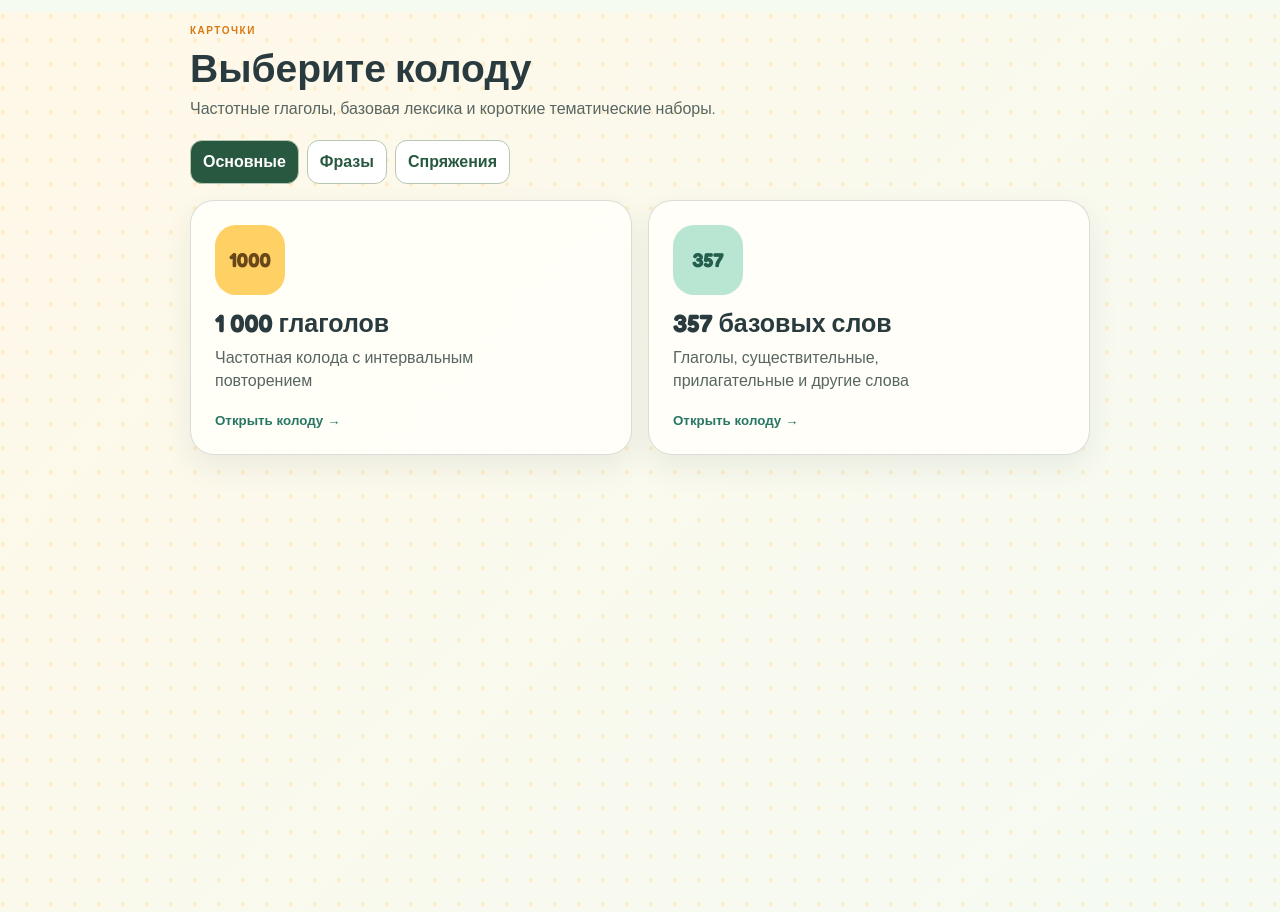
Test case: Cards server cache and local session › drops a rejected review when the write itself reports lost access
The image size is (1280, 912).
Click the button with aria-label "Открыть колоду «1 000 глаголов»": click(250, 260) [190, 200, 632, 455]
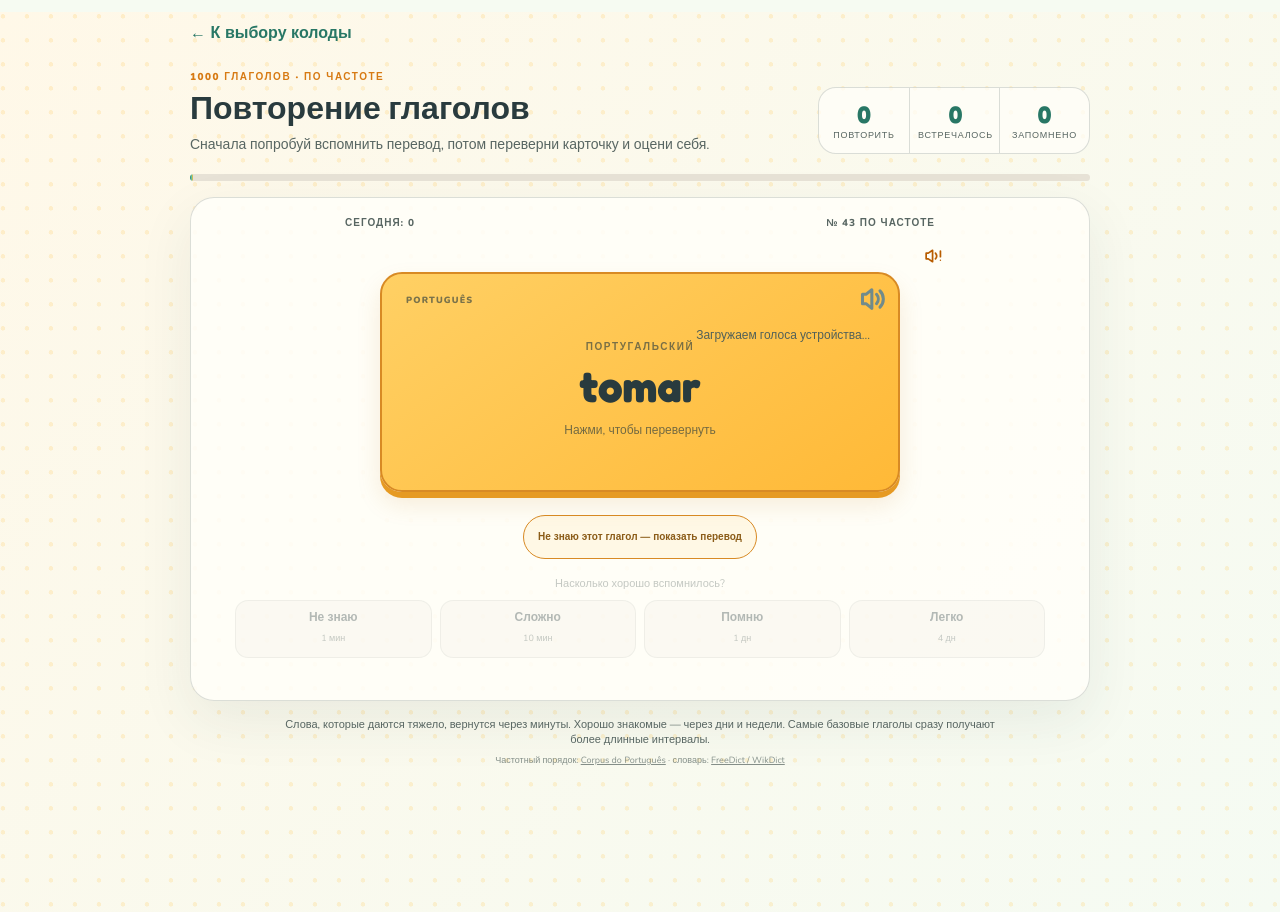
Check: the button with aria-label "Показать перевод" is enabled
Click the button with aria-label "Показать перевод": click(640, 382) [380, 272, 900, 492]
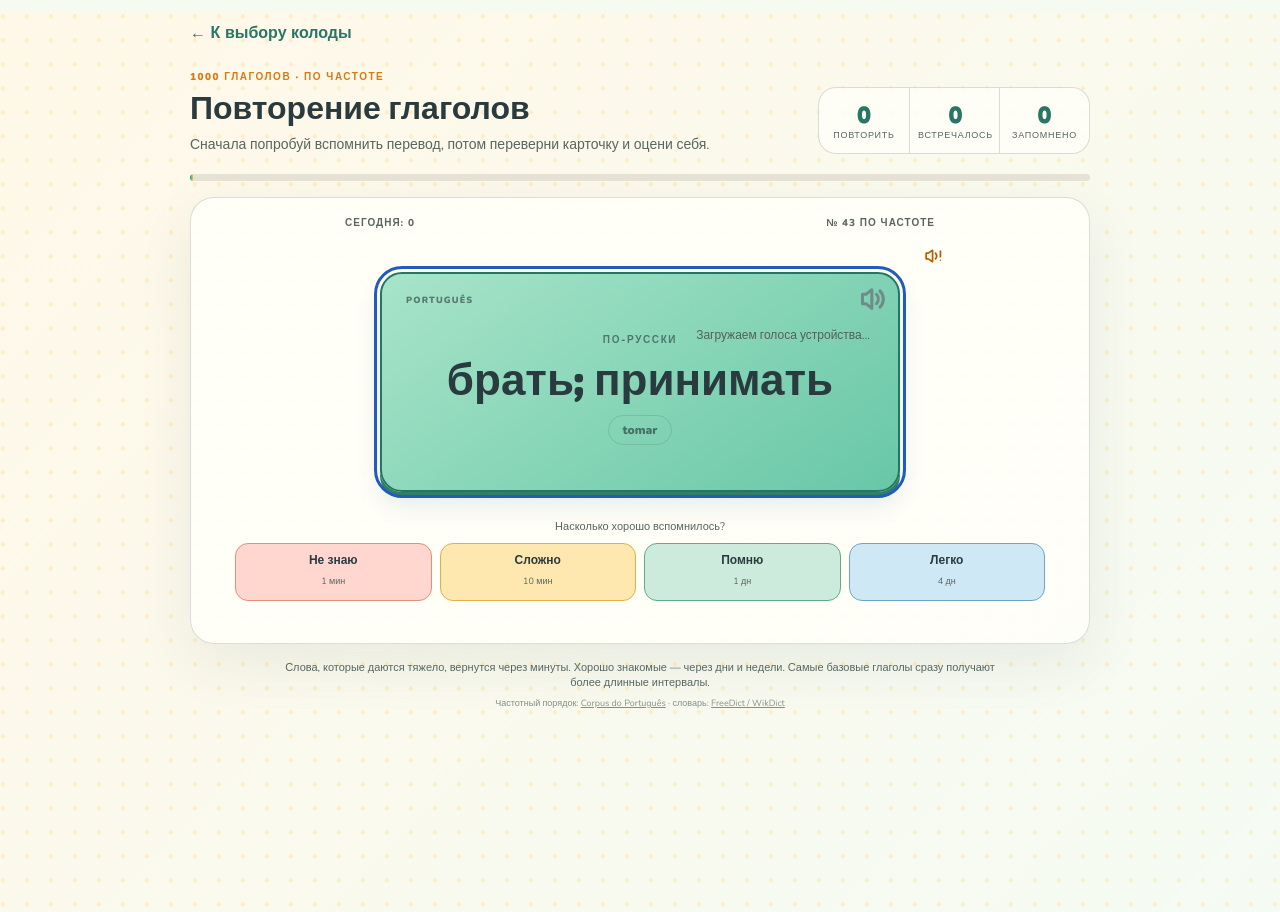
Click the button "Помню 1 дн": click(742, 572) [644, 543, 840, 601]
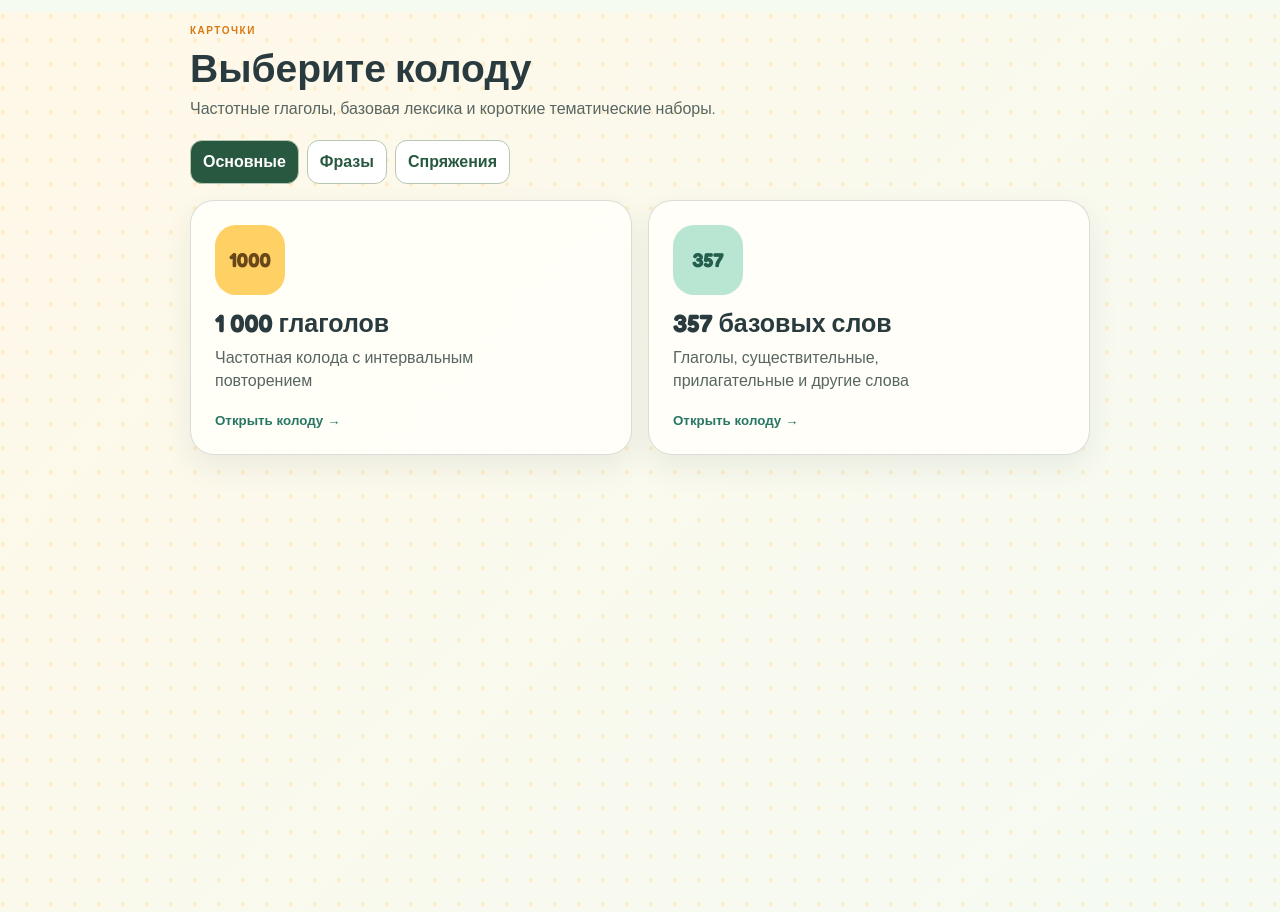
Click the button with aria-label "Открыть колоду «1 000 глаголов»": click(250, 260) [190, 200, 632, 455]
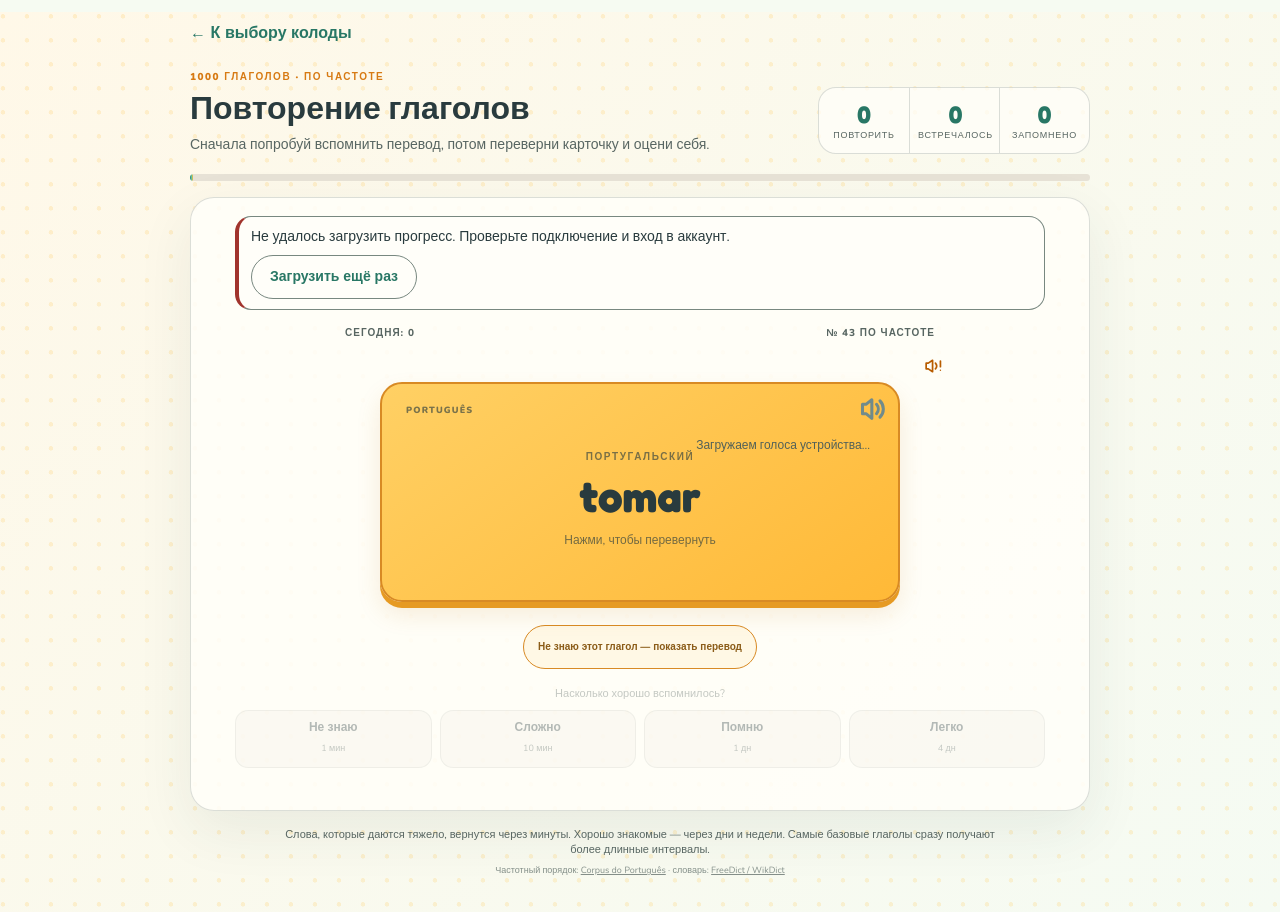
Check: the button "Загрузить ещё раз" is shown, box [251, 255, 417, 299]
Check: the text "Сегодня: 0" is shown, box [345, 326, 415, 340]
